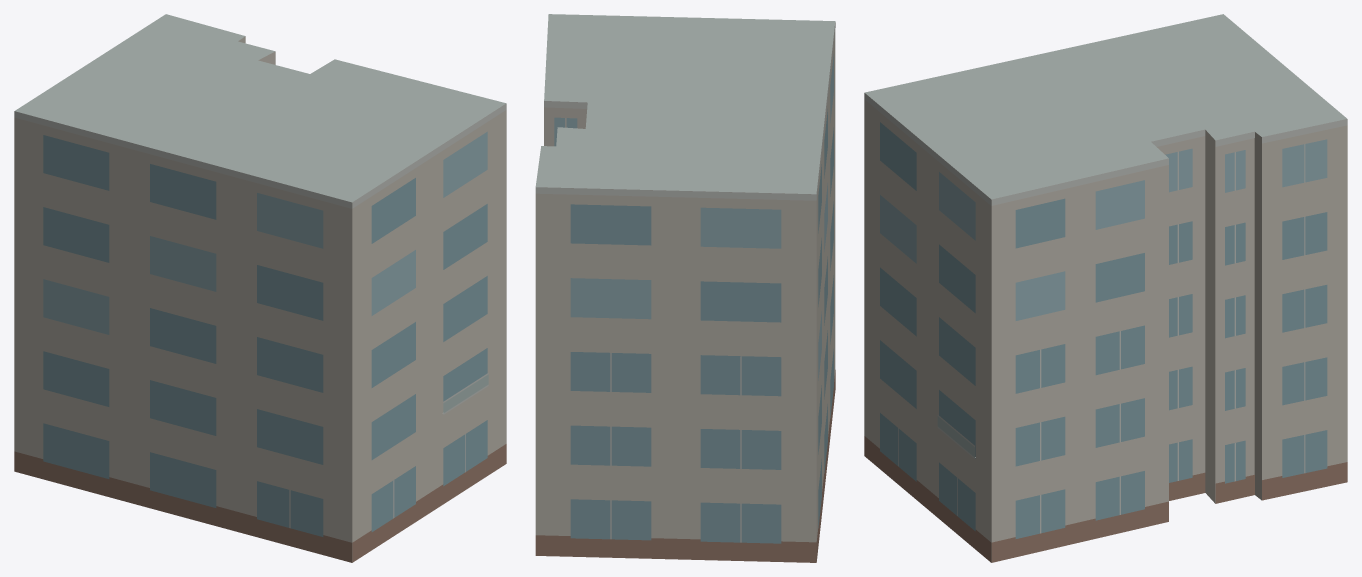
File: survey-upis-32840155.glb
3 views of the same model, side by side, from view 1: azimuth 30°, elevation 25°; view 2: azimuth 150°, elevation 25°; view 3: azimuth 270°, elevation 25° (orthographic). The views are drawn at different scales.
Visible parts, largest first — view 1: survey-upis-32840155.tmp; view 2: survey-upis-32840155.tmp; view 3: survey-upis-32840155.tmp.
Boxes of the visible parts, x1,y1,x2,y2 form: survey-upis-32840155.tmp: (14,14,506,562); survey-upis-32840155.tmp: (535,14,835,562); survey-upis-32840155.tmp: (864,14,1347,562).
Size of the model in its own units: 15.01 by 13.7 by 16.52.
